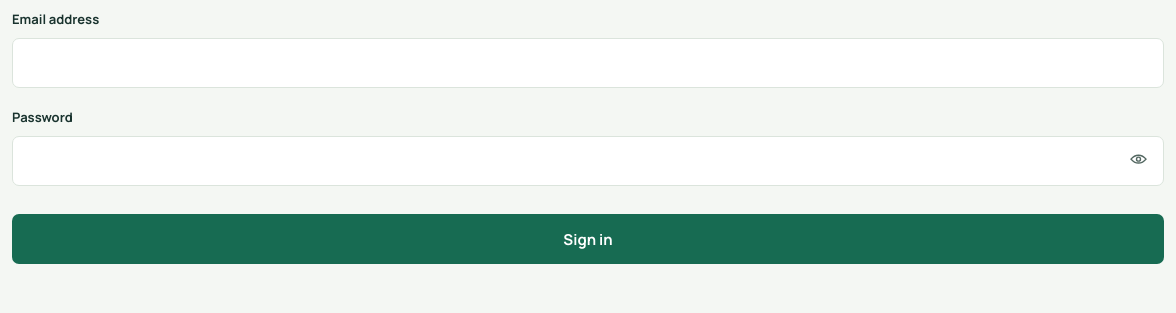
Test: LoginForm › submits credentials and reports a rejected login
The image size is (1176, 313).
Type "owner@example.com" into the field labelled "Email address" at (588, 63), box [12, 38, 1164, 88]
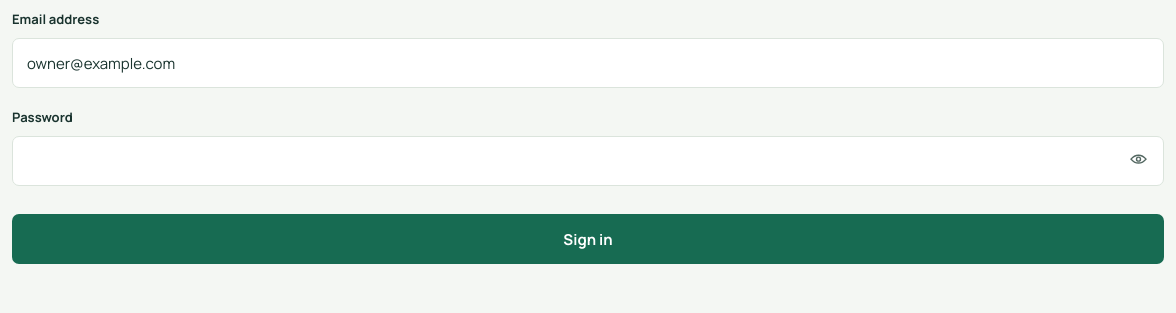
Type "wrong-password" into the password field labelled "Password" at (588, 161), box [12, 136, 1164, 186]
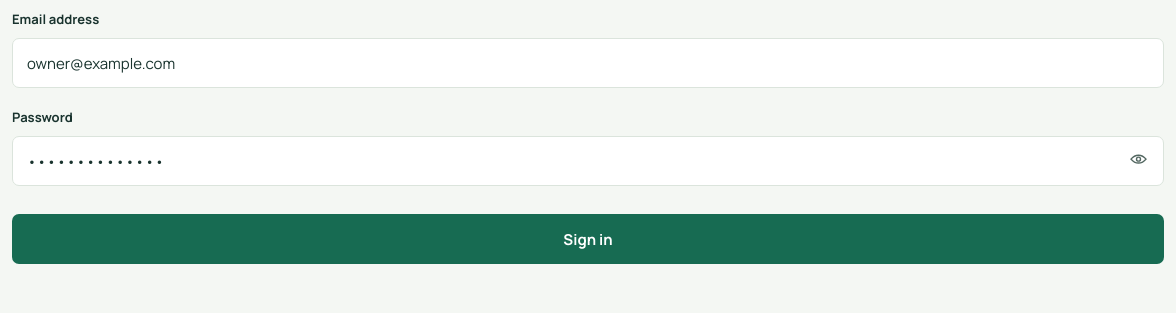
Click the button "Sign in" at (588, 239), box [12, 214, 1164, 264]
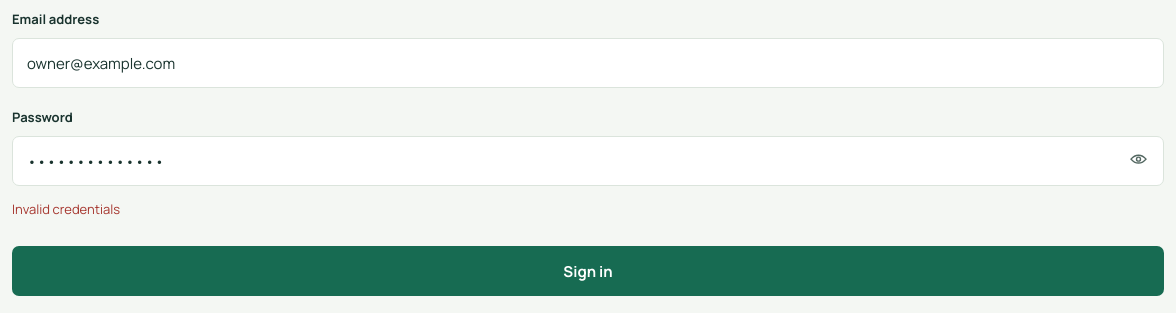
Expected: the message reads "Invalid credentials", [12, 200, 120, 218]
